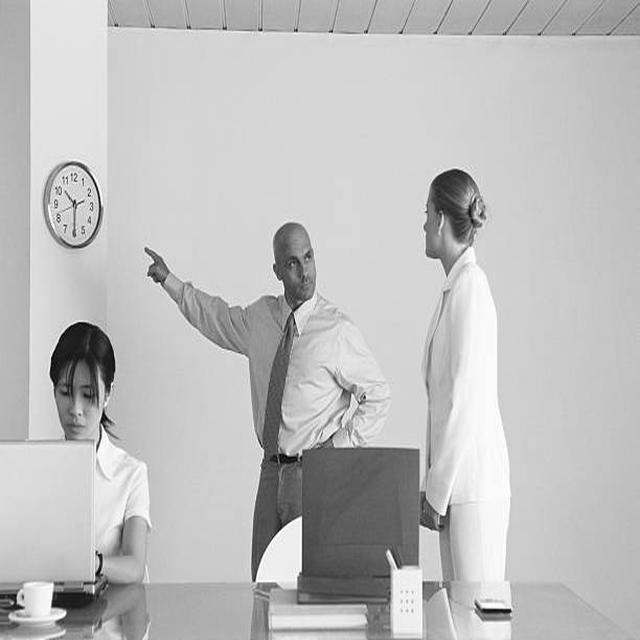Angry: (279, 235, 317, 301)
